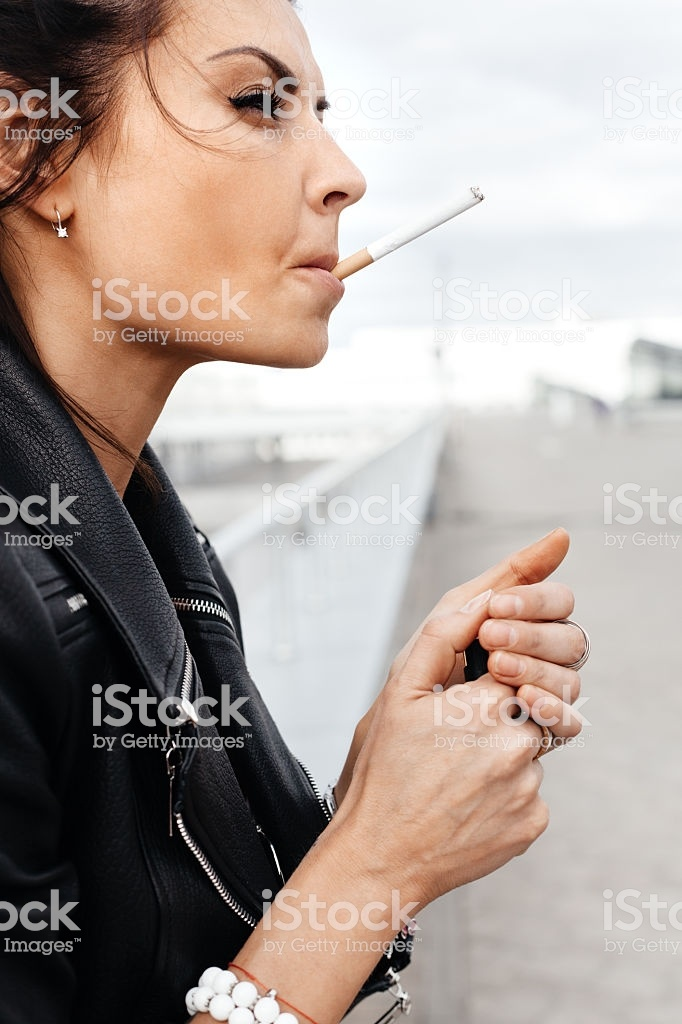sigaretta: (308, 185, 482, 289)
